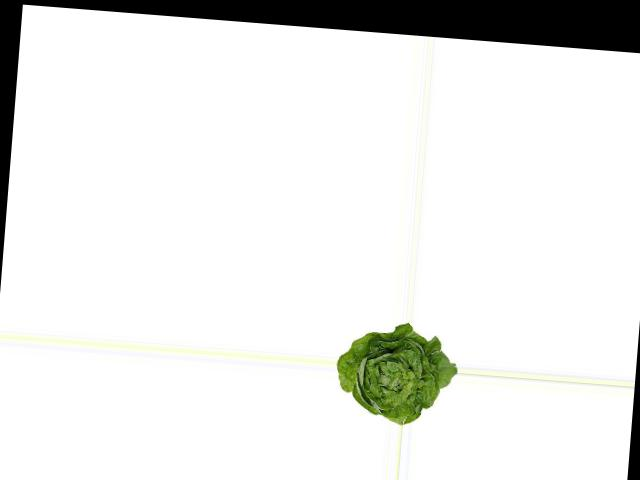lettuce: (331, 317, 457, 427)
